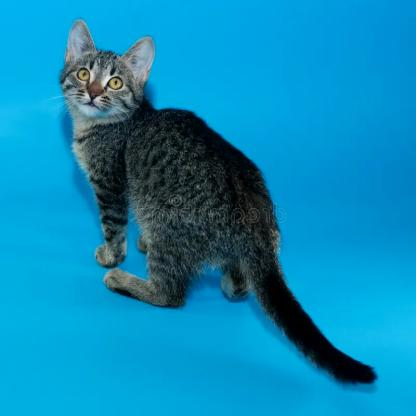cat: (63, 38, 260, 298)
